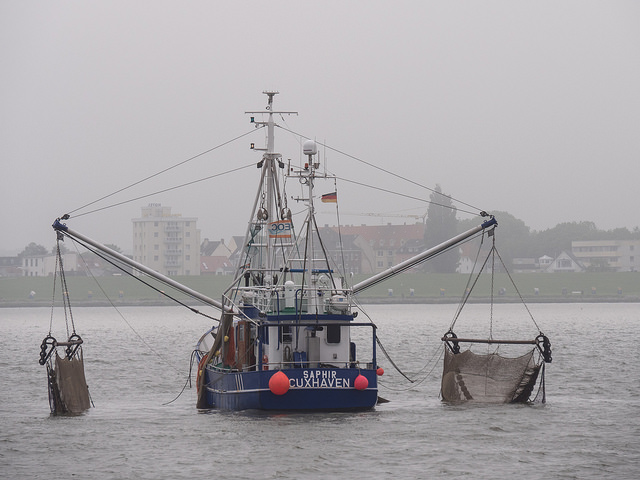fishing_boat: (32, 73, 559, 422)
